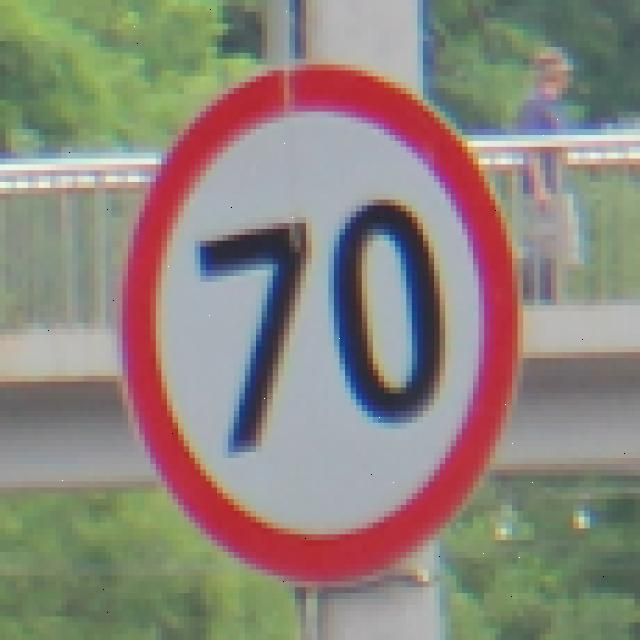speed limit 70: (115, 65, 525, 586)
